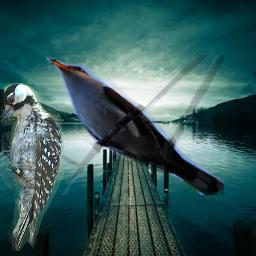Cuckoo: (45, 55, 224, 195)
Woodpecker: (1, 83, 64, 251)
